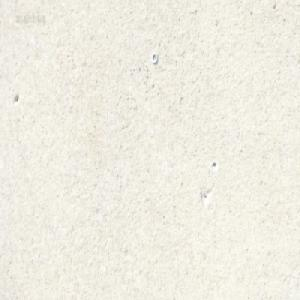Washer: (151, 51, 157, 63)
